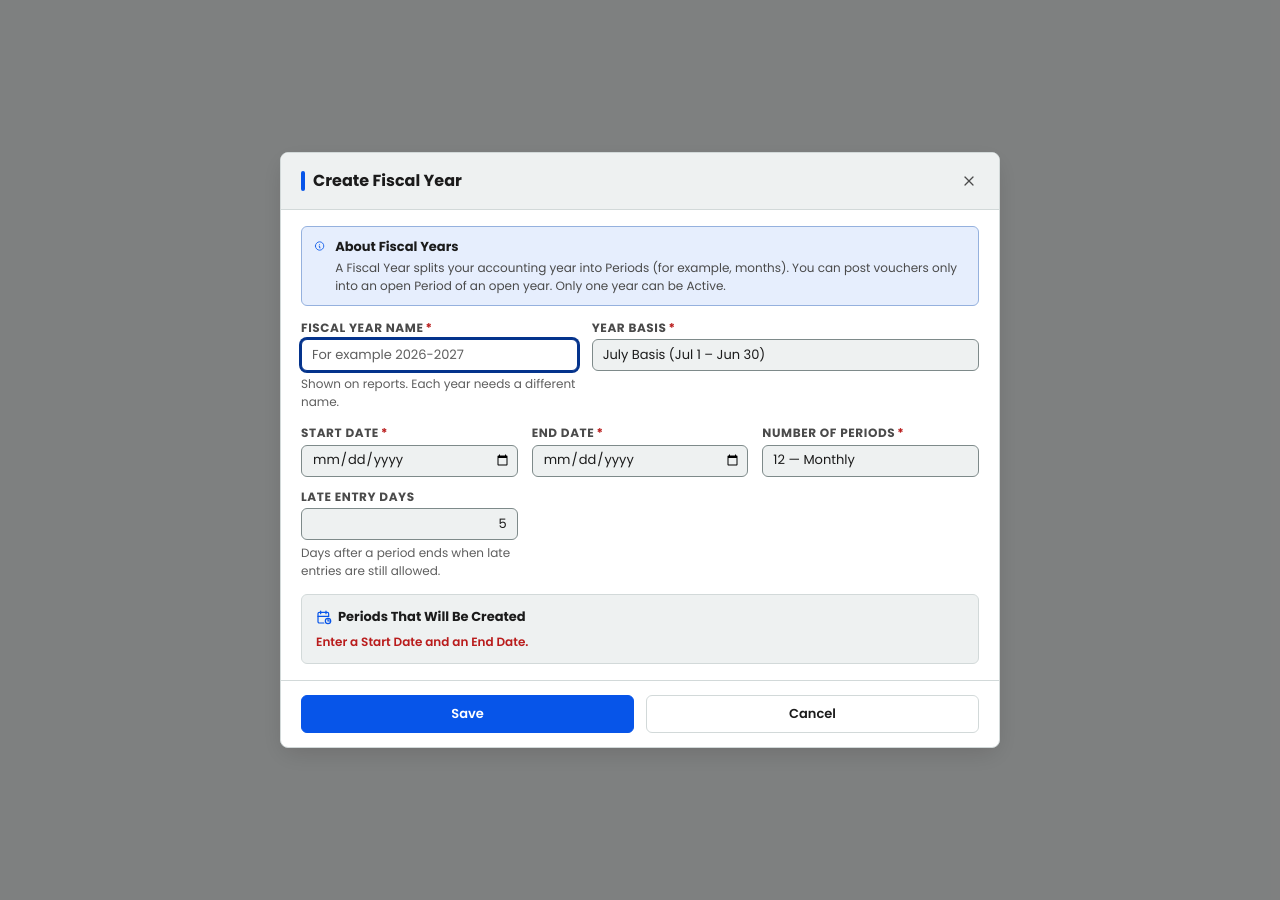
Scenario: CreateFiscalYearDialog › asks for a name and does not save without one
Click the button "Save" at [468, 714], box x1=301 y1=695 x2=634 y2=733
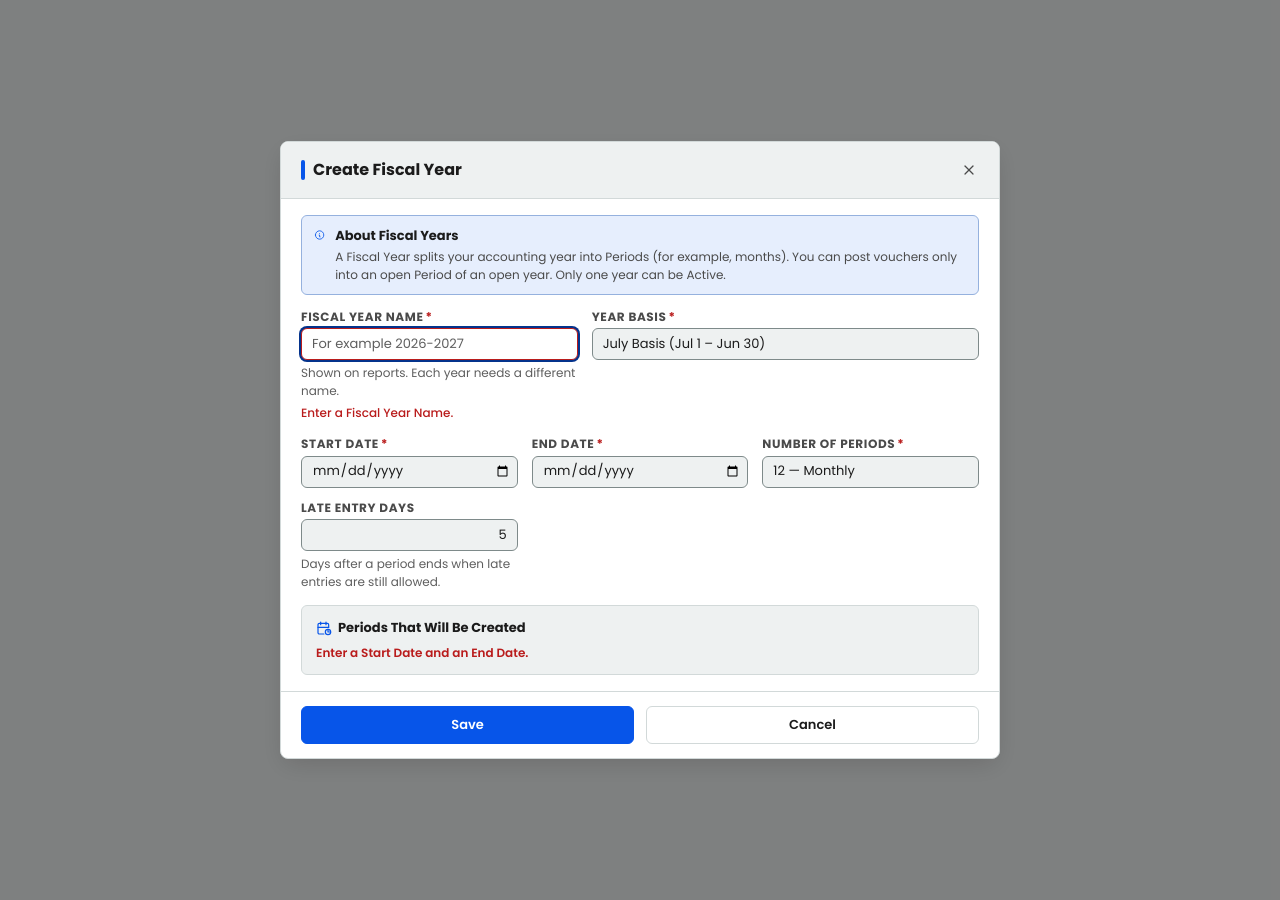
Now the text "Enter a Fiscal Year Name." is shown, box x1=301 y1=404 x2=453 y2=421
